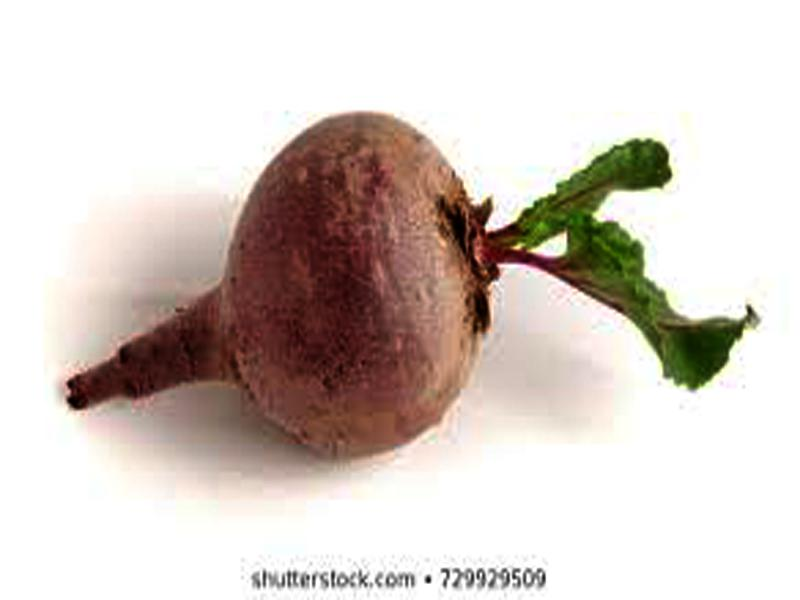Beet: (71, 114, 759, 454)
